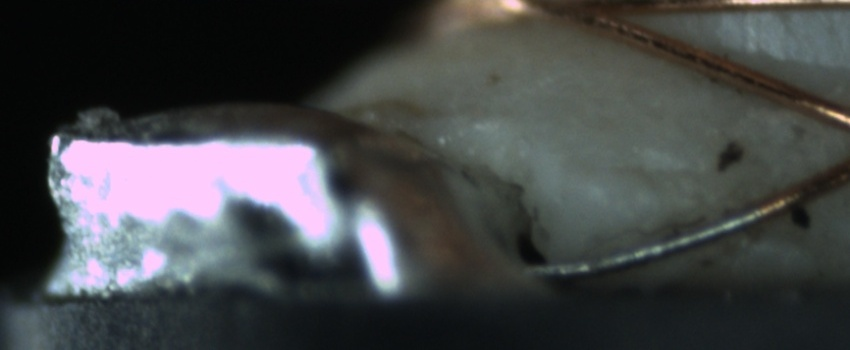DL: (560, 134, 727, 198)
TS: (528, 205, 762, 277)
